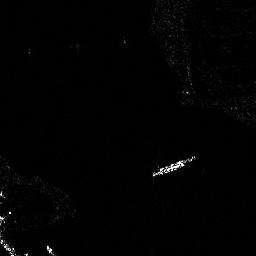ship: (152, 155, 196, 177)
